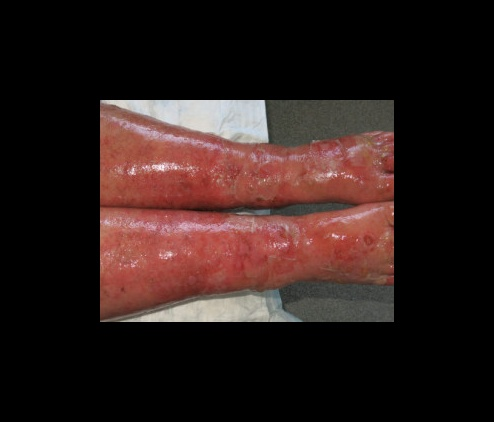SJS-TEN: (96, 97, 395, 325)
